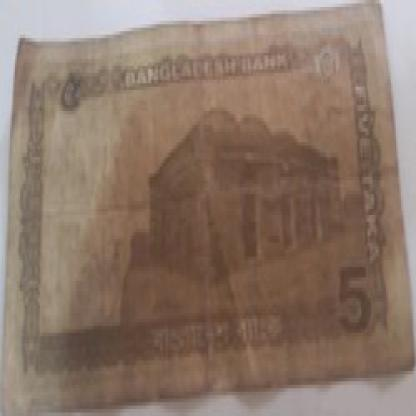Five Taka: (328, 253, 376, 350), (53, 62, 88, 118)
